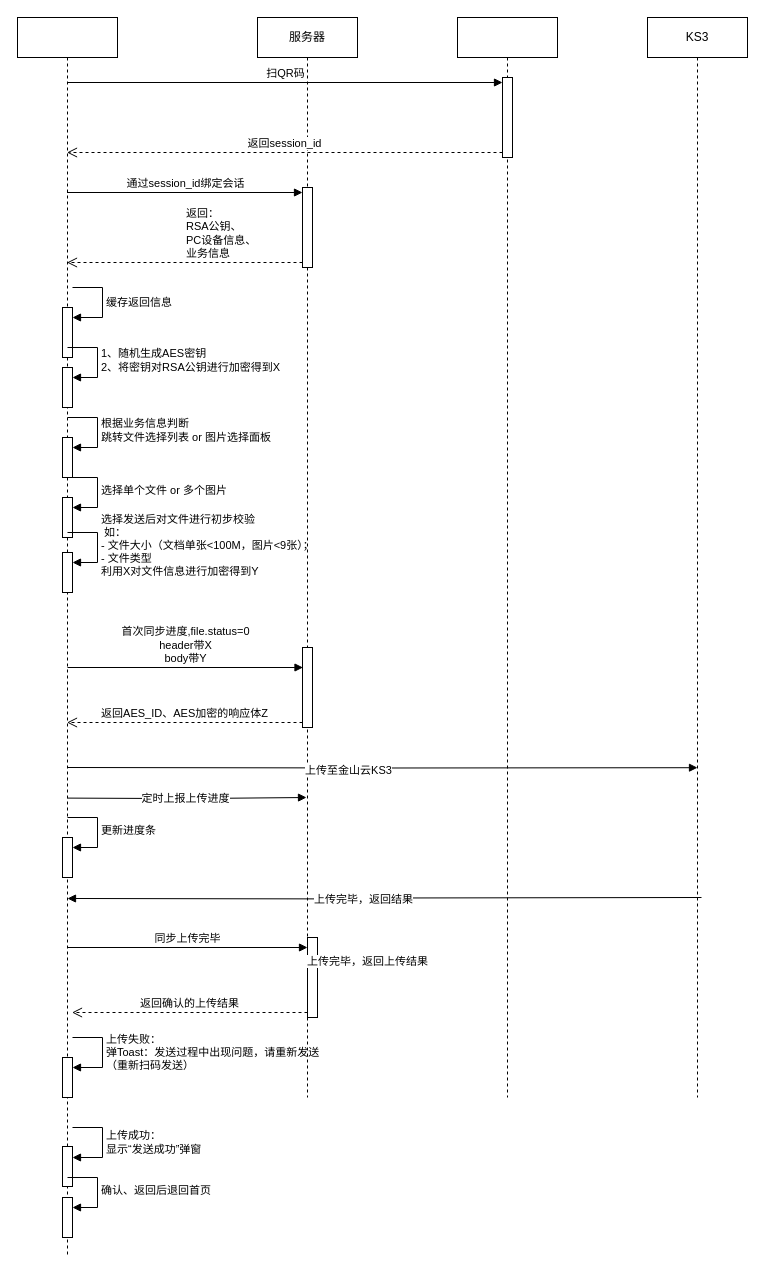
Image size: 765x1275. Some labels were removed from this diagram. The box of each missing label's shape, as (x1, y1, x2, y2) in pixels:
PC: (456, 16, 558, 1098)
移动端: (16, 16, 118, 1258)
